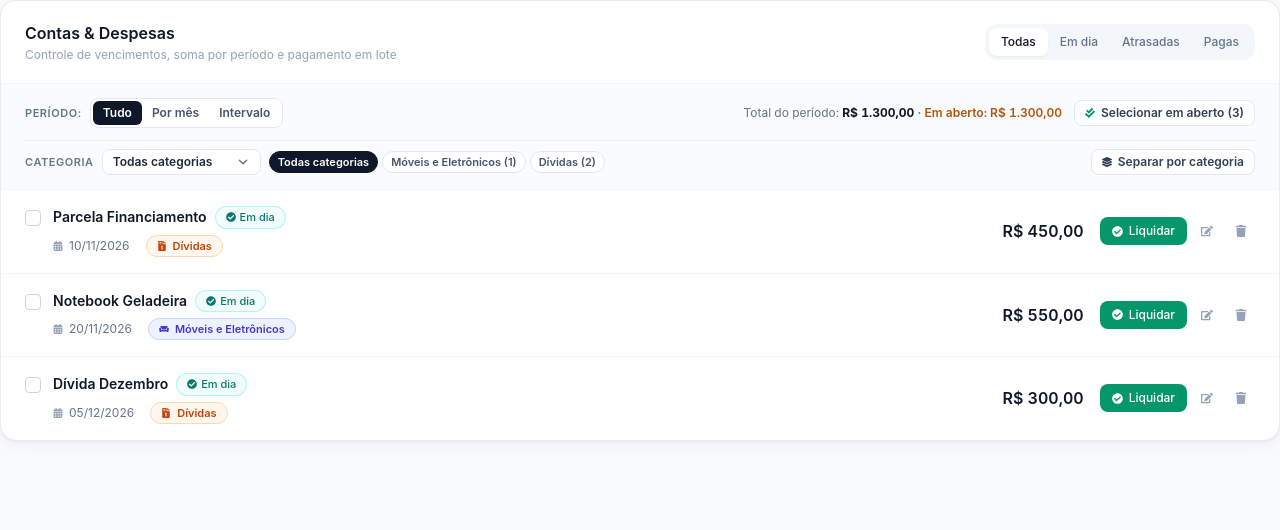
Test case: ExpensesListSection batch calculation and period filtering › sums and subtracts live total as debt checkboxes are checked/unchecked and triggers batch payment
Later steps or results of the test are not shown.
Click the checkbox named "Selecionar Parcela Financiamento": (33, 218) x1=25 y1=210 x2=41 y2=226
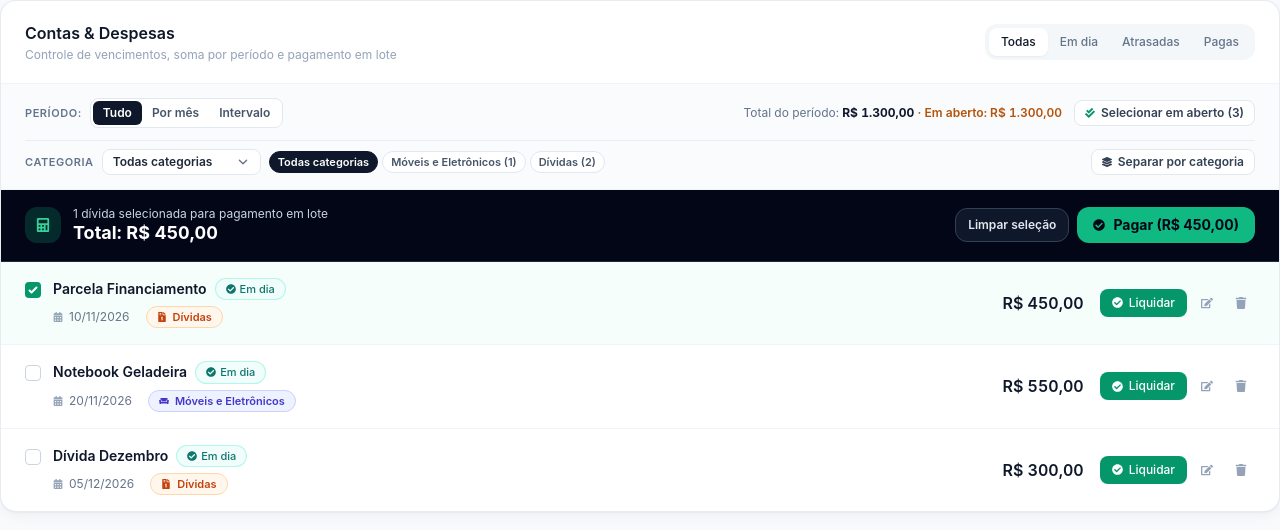
Result: the text "1 dívida selecionada para pagamento em lote" is shown at x1=73 y1=206 x2=328 y2=222
Result: the text "Total: R$ 450,00" is shown at x1=73 y1=222 x2=218 y2=243
Click the checkbox named "Selecionar Notebook Geladeira": (33, 373) x1=25 y1=365 x2=41 y2=381
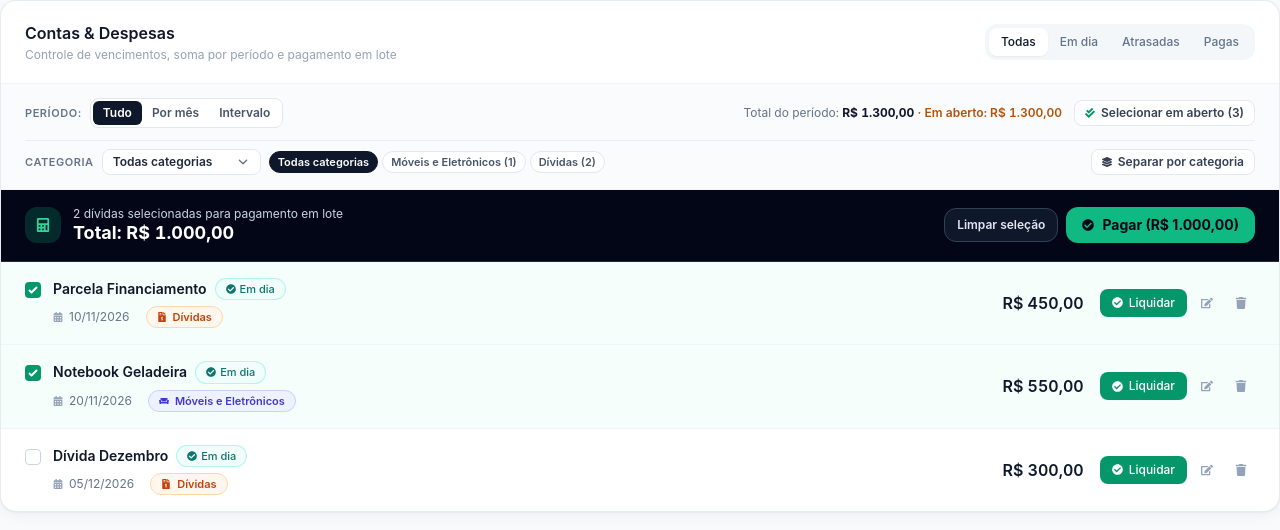
Result: the text "2 dívidas selecionadas para pagamento em lote" is shown at x1=73 y1=206 x2=343 y2=222
Result: the text "Total: R$ 1.000,00" is shown at x1=73 y1=222 x2=234 y2=243
Click the checkbox named "Selecionar Parcela Financiamento": (33, 290) x1=25 y1=282 x2=41 y2=298
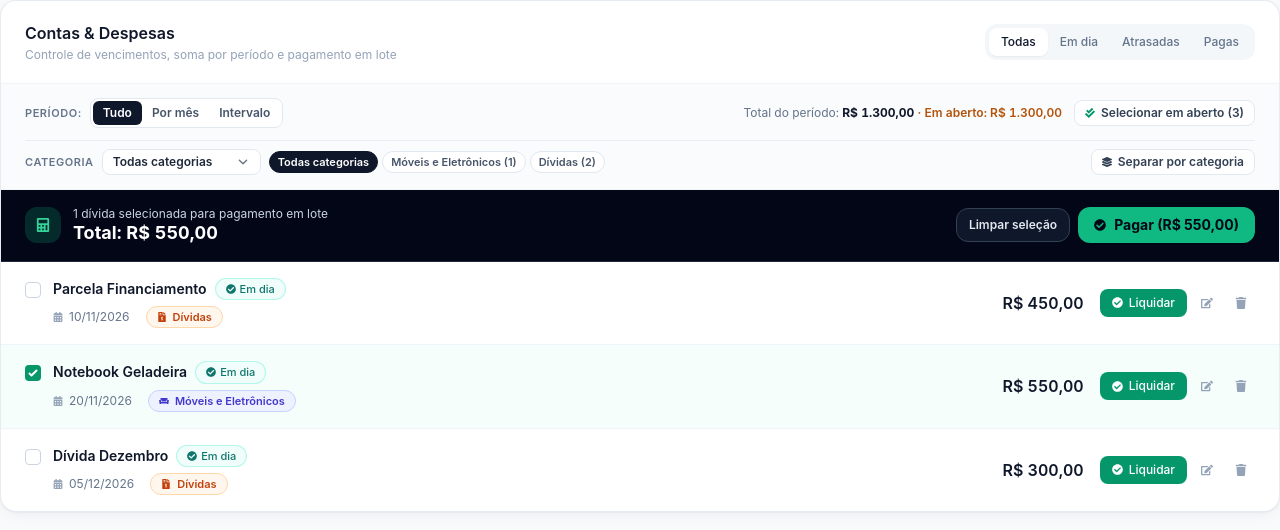
Result: the text "1 dívida selecionada para pagamento em lote" is shown at x1=73 y1=206 x2=328 y2=222
Result: the text "Total: R$ 550,00" is shown at x1=73 y1=222 x2=218 y2=243
